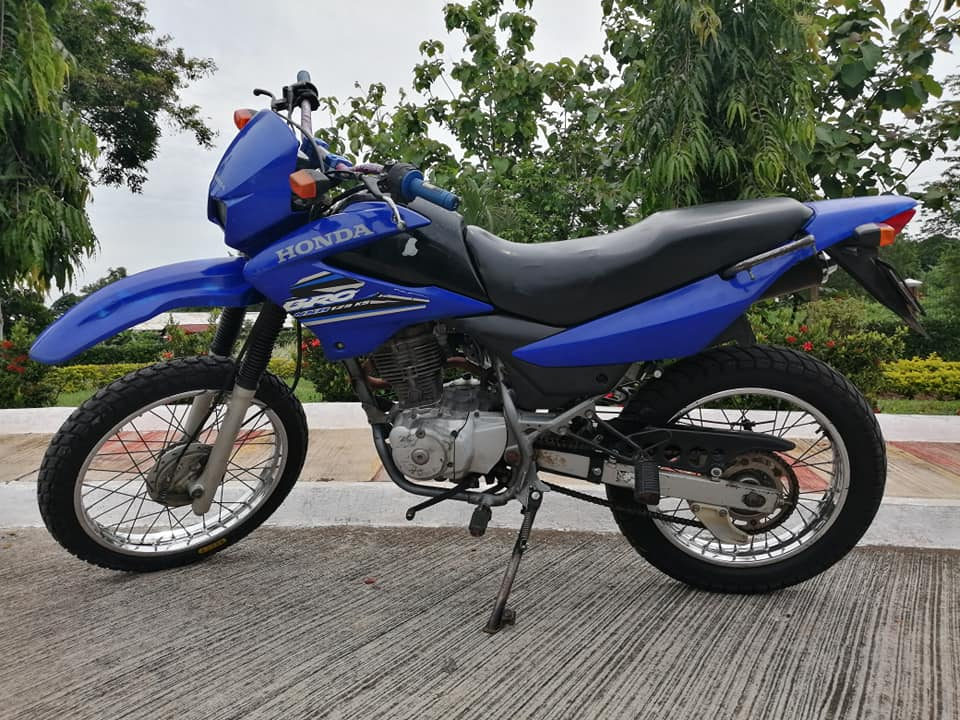moto: (23, 68, 922, 639)
